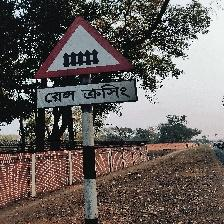Rail-crossing: (33, 15, 137, 113)
